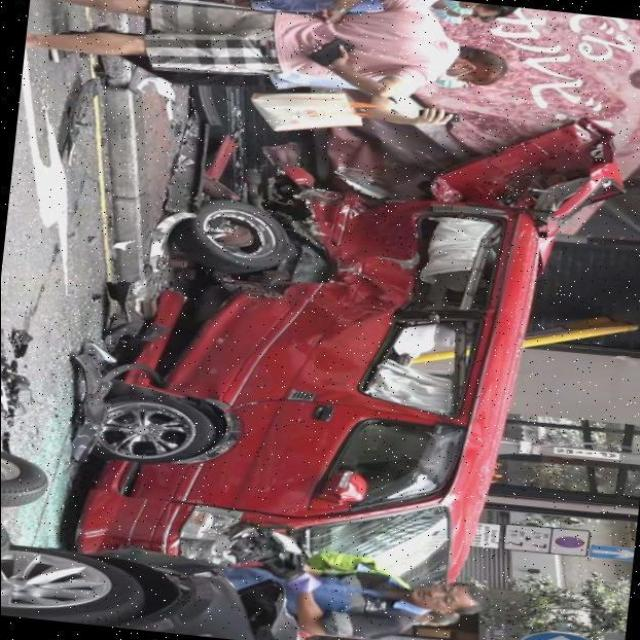accident: (57, 104, 632, 640)
